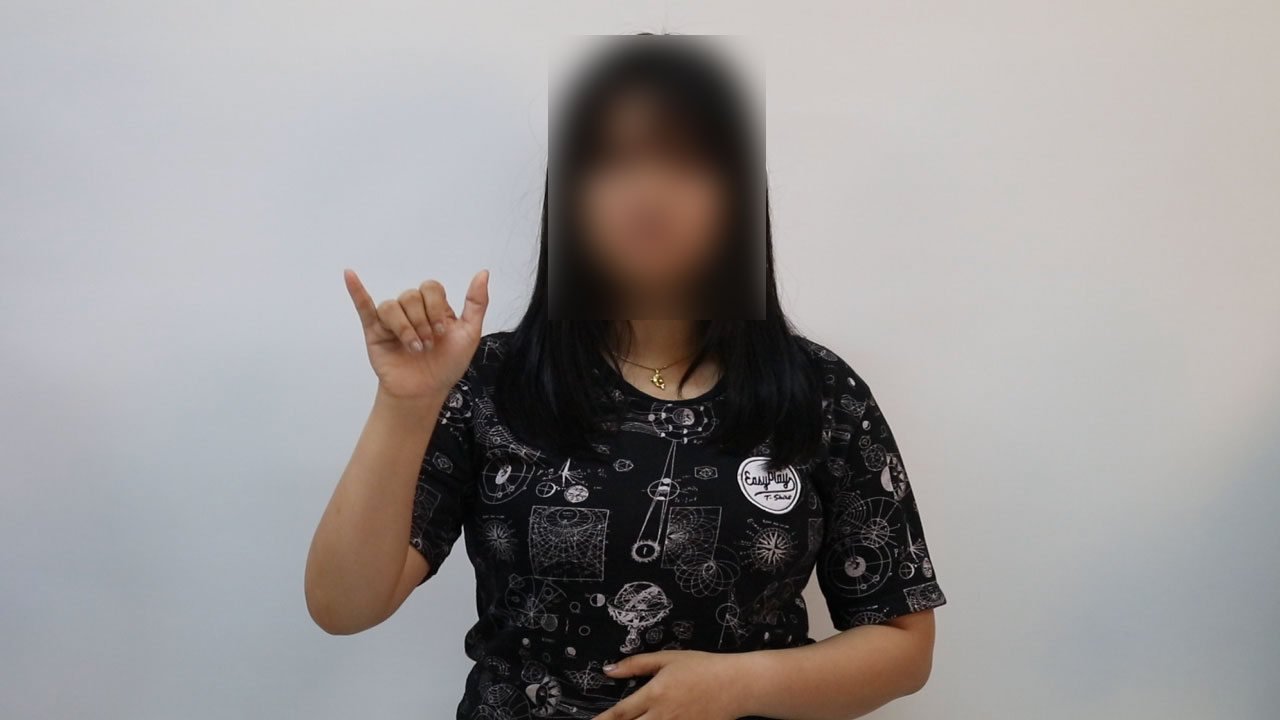yor: (337, 253, 502, 409)
